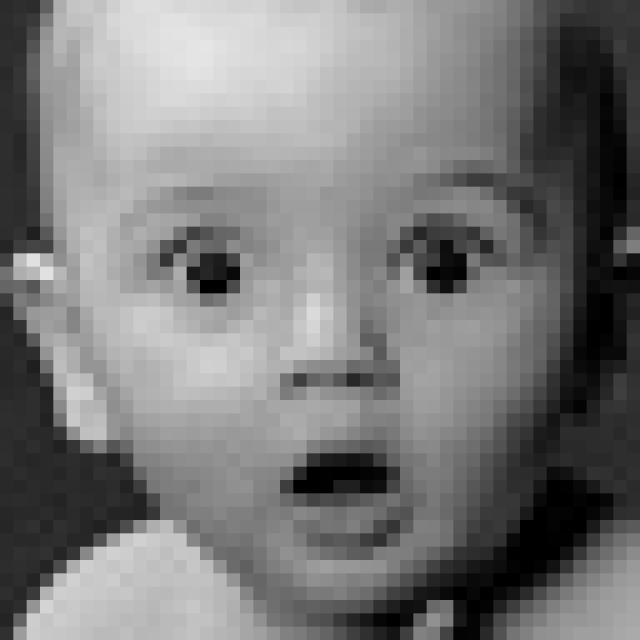surprise: (111, 150, 548, 559)
